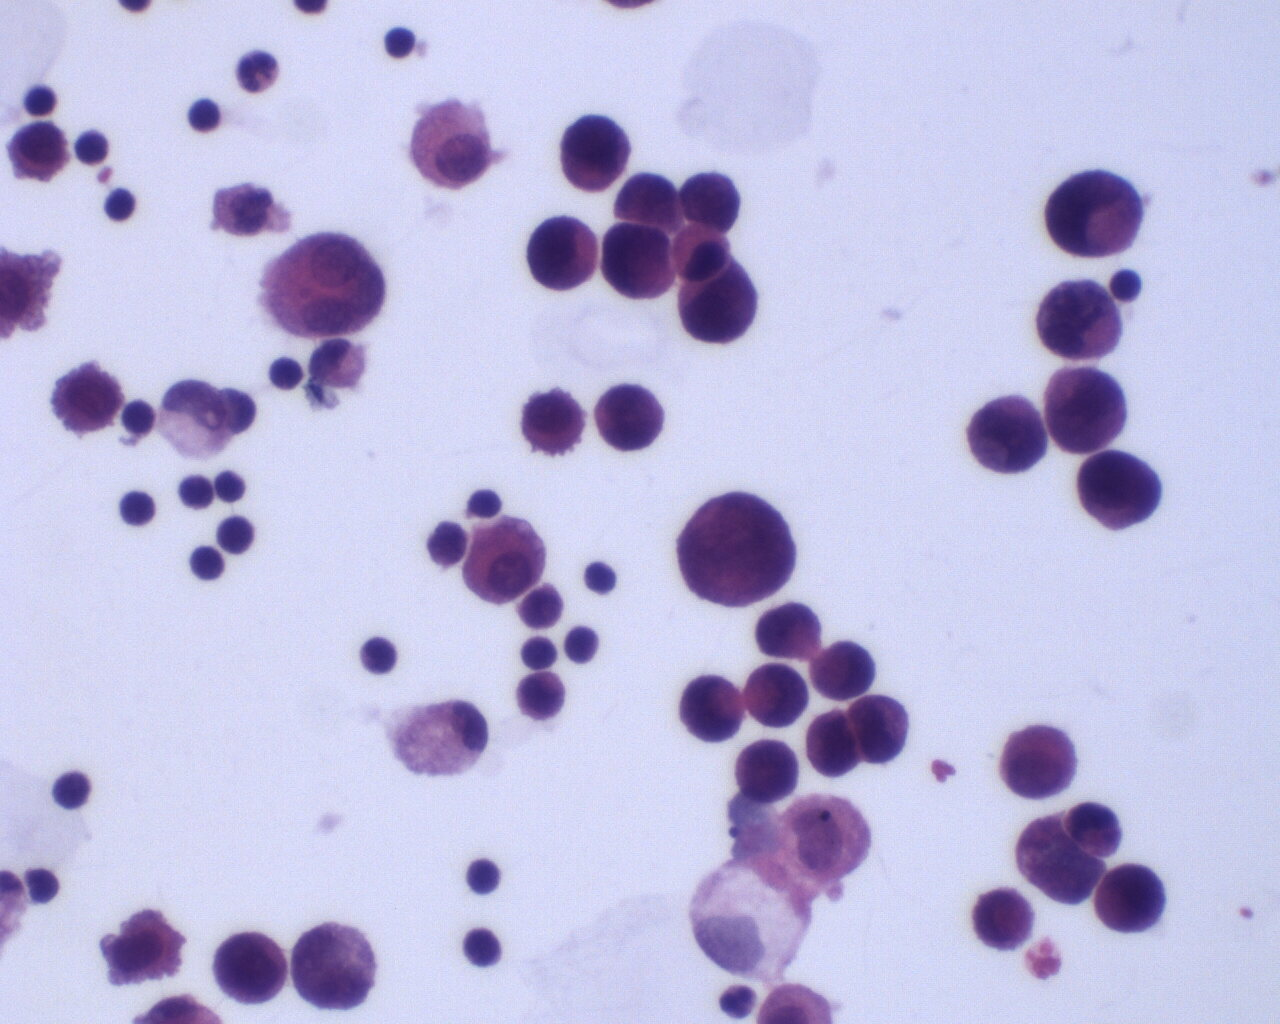ab: (675, 487, 799, 611), (1044, 169, 1143, 262), (1034, 276, 1125, 363), (1044, 365, 1128, 458), (1076, 447, 1165, 531), (965, 391, 1049, 478), (554, 114, 635, 193), (997, 724, 1080, 801), (678, 267, 761, 344), (599, 222, 676, 301), (1095, 860, 1171, 940), (45, 357, 122, 435), (212, 927, 286, 1004), (526, 212, 598, 292), (519, 387, 588, 458), (739, 660, 810, 729), (595, 381, 665, 450), (678, 673, 744, 745), (971, 887, 1038, 954), (810, 638, 879, 703), (852, 693, 911, 767), (735, 737, 798, 806), (755, 600, 823, 664), (677, 168, 743, 233), (6, 119, 71, 184), (610, 169, 686, 224), (802, 706, 860, 778), (1063, 798, 1124, 860), (517, 668, 568, 721)
lymph: (48, 765, 96, 820), (115, 485, 156, 532), (562, 622, 602, 667), (464, 855, 505, 898), (360, 634, 401, 677), (267, 353, 305, 398), (579, 557, 620, 597), (188, 543, 226, 585), (1109, 266, 1146, 304), (185, 92, 222, 131), (215, 466, 248, 505)
meso: (264, 227, 390, 352), (404, 96, 496, 193), (461, 515, 549, 604)
neutro: (234, 47, 281, 96), (718, 984, 759, 1020)
